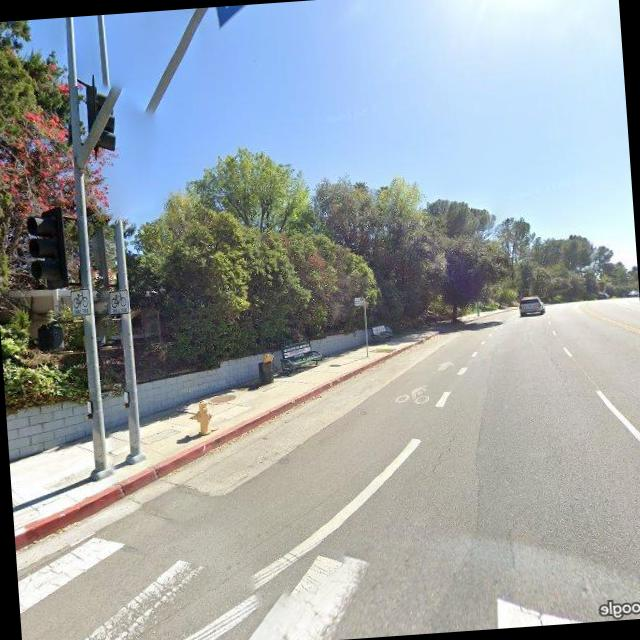pothole: (424, 421, 462, 476), (543, 338, 570, 382)
